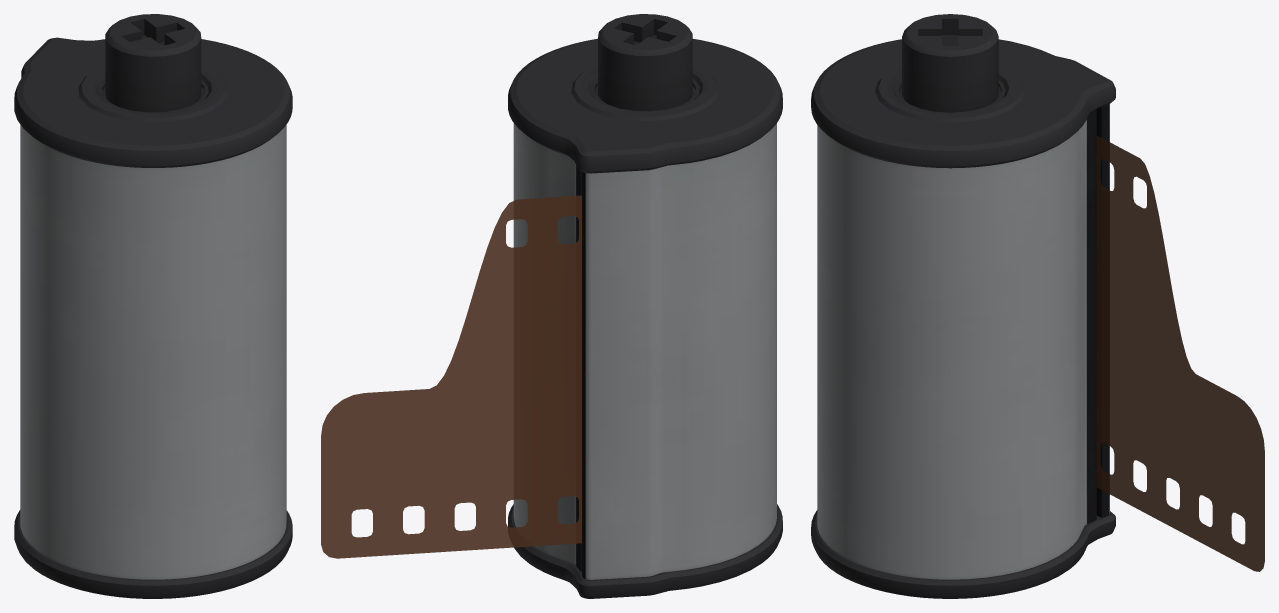
File: film-cartridge-v2-mobile.glb
3 views of the same model, side by side, from view 1: azimuth 30°, elevation 25°; view 2: azimuth 150°, elevation 25°; view 3: azimuth 270°, elevation 25° (orthographic).
Parts seen in each view (by area): view 1: Cassette; view 2: Cassette, Leader; view 3: Cassette, Leader.
Part boxes in pixels (bbox=[...]): Cassette: bbox=[14, 14, 292, 598]; Cassette: bbox=[508, 14, 782, 598]; Leader: bbox=[321, 195, 581, 558]; Cassette: bbox=[811, 14, 1115, 598]; Leader: bbox=[1096, 135, 1264, 571].
Bounding box in the file's own units: 0.5922 × 1 × 0.7976.
Materials: 2 (1 with a texture image).
